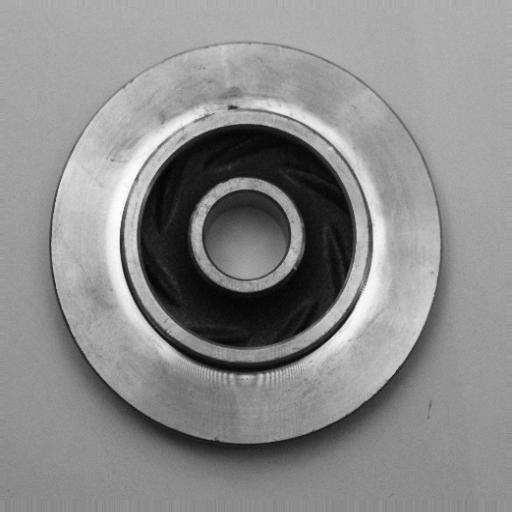crack: (213, 101, 251, 121)
unpolished_casting: (49, 39, 445, 452)
